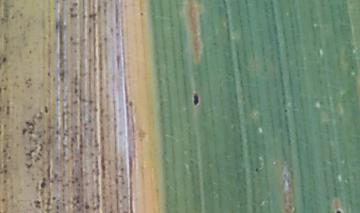tarspot: (191, 92, 200, 106), (39, 174, 47, 188), (20, 126, 29, 136), (33, 198, 42, 208), (24, 119, 35, 126), (88, 11, 97, 19), (69, 12, 79, 19), (43, 103, 49, 114), (281, 106, 289, 114), (137, 9, 145, 17), (1, 55, 8, 63), (128, 99, 134, 108), (51, 193, 57, 202), (253, 165, 260, 172), (83, 204, 91, 210), (71, 1, 78, 6), (334, 209, 342, 213), (70, 7, 75, 13)
